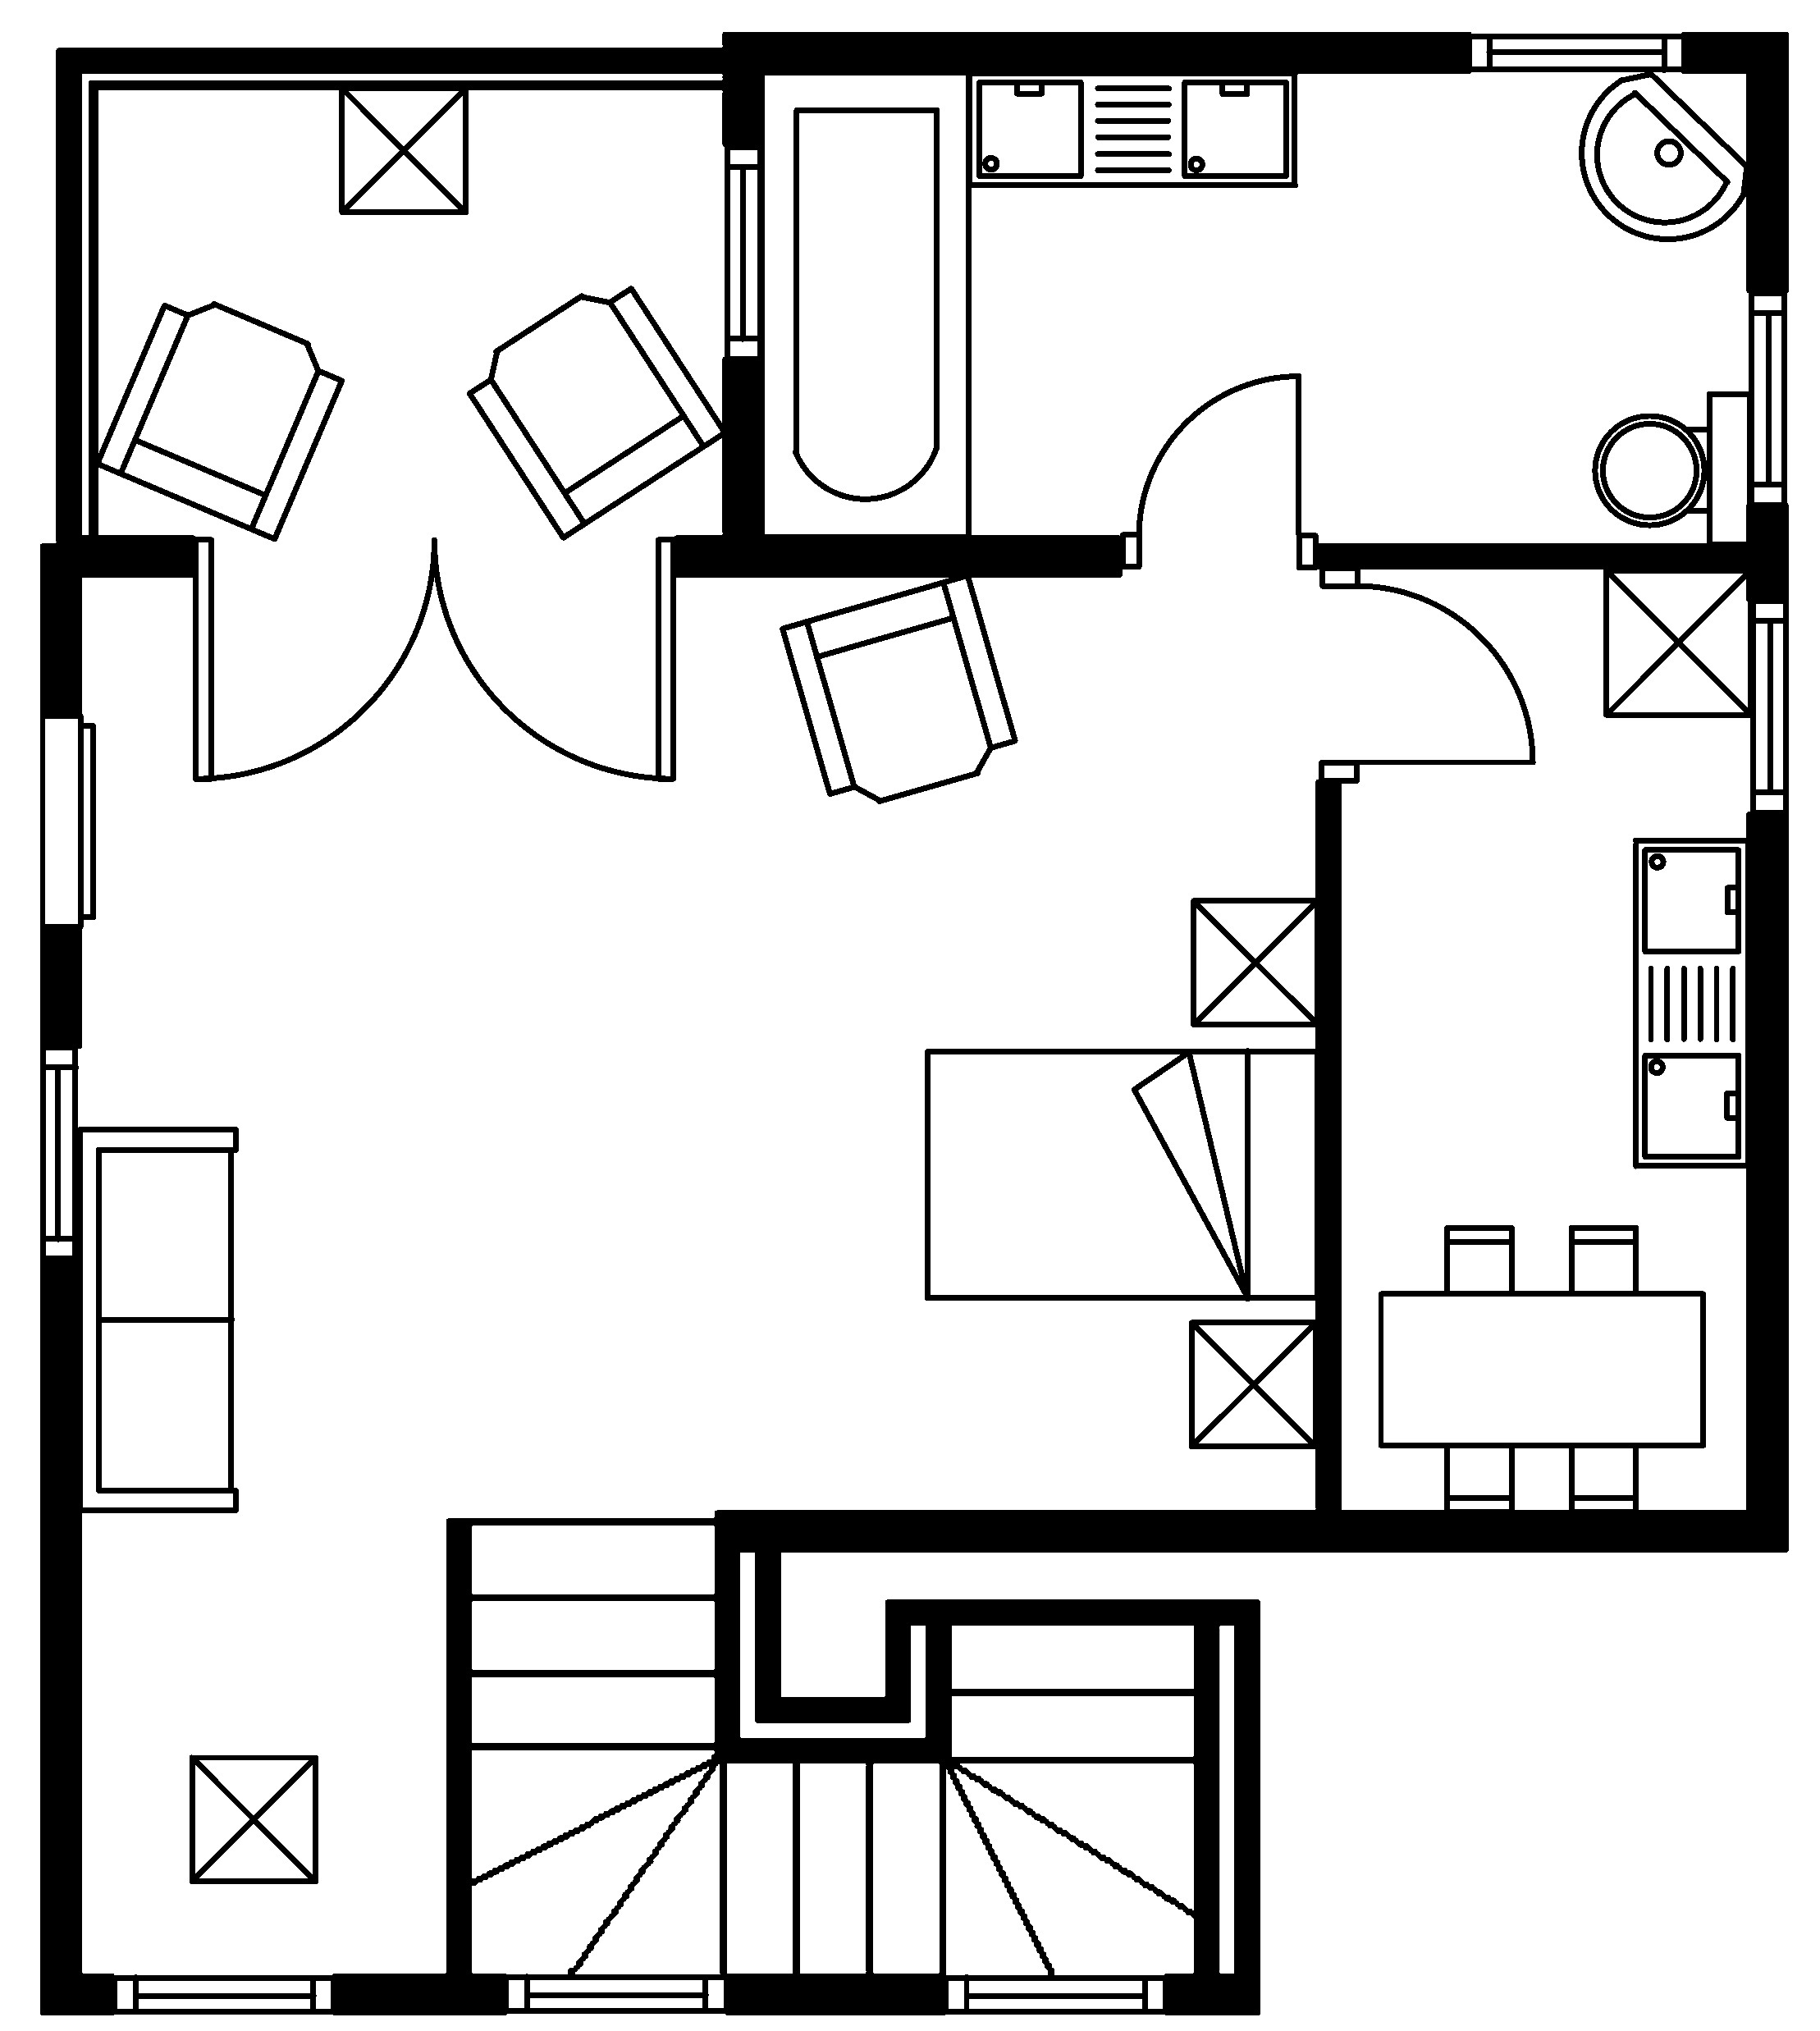armchair: (466, 285, 727, 541), (93, 299, 344, 543), (778, 571, 1019, 805)
bed: (922, 1047, 1321, 1302)
coffee_table: (1602, 566, 1753, 719), (1186, 1318, 1319, 1449), (1189, 896, 1321, 1028), (186, 1753, 318, 1885), (337, 84, 469, 214)
dining_table: (1376, 1223, 1706, 1516)
large_sink: (1592, 388, 1753, 548)
large_sofa: (76, 1124, 239, 1513)
small_sink: (1578, 70, 1750, 241)
tub: (757, 69, 971, 539)
twin_sink: (1630, 835, 1750, 1170), (964, 69, 1298, 188)
